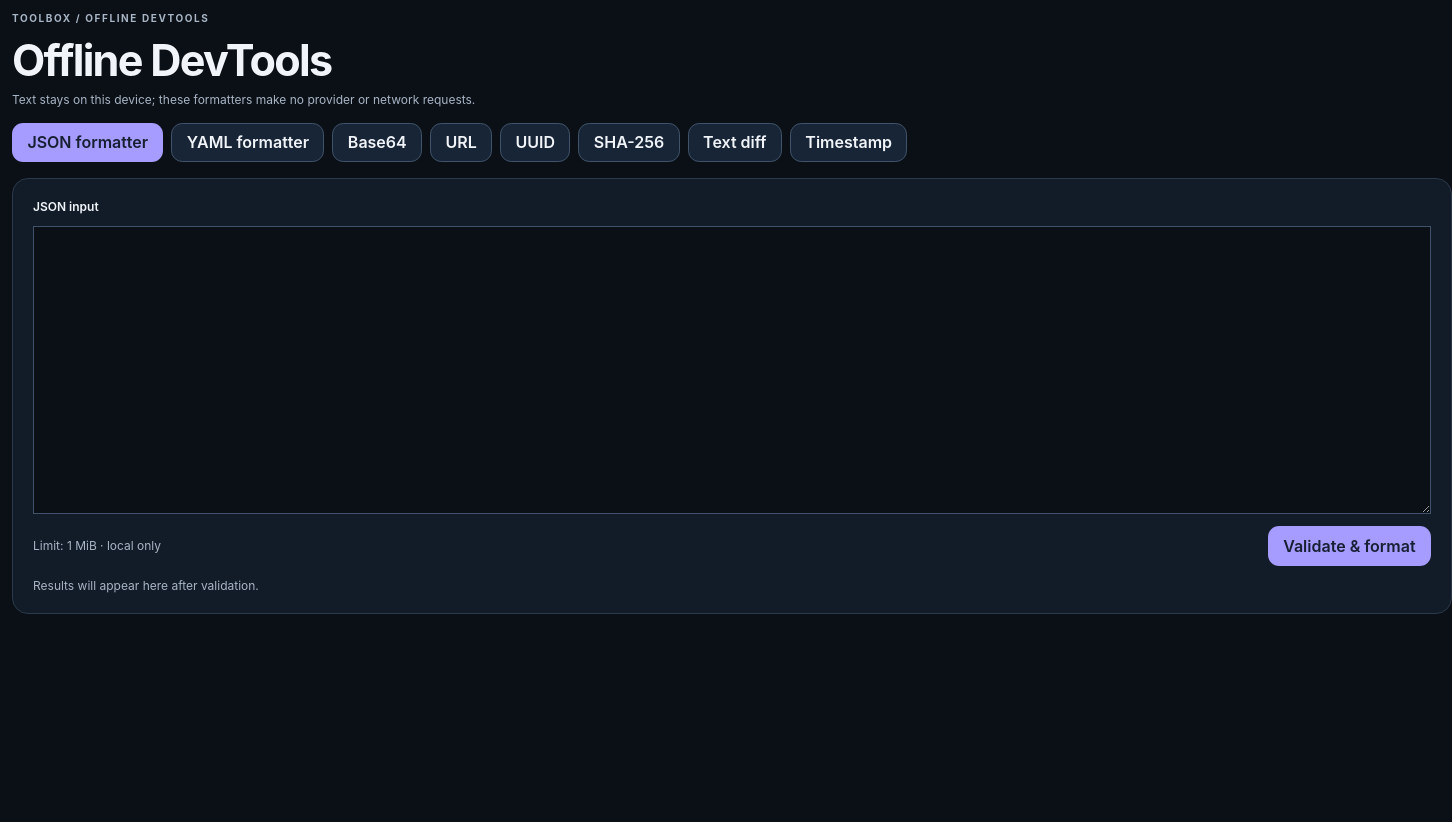
Test: offline DevTools page › generates a local UUID and validates a canonical UUID
Click the button "UUID" at (535, 142), box [500,123,570,162]
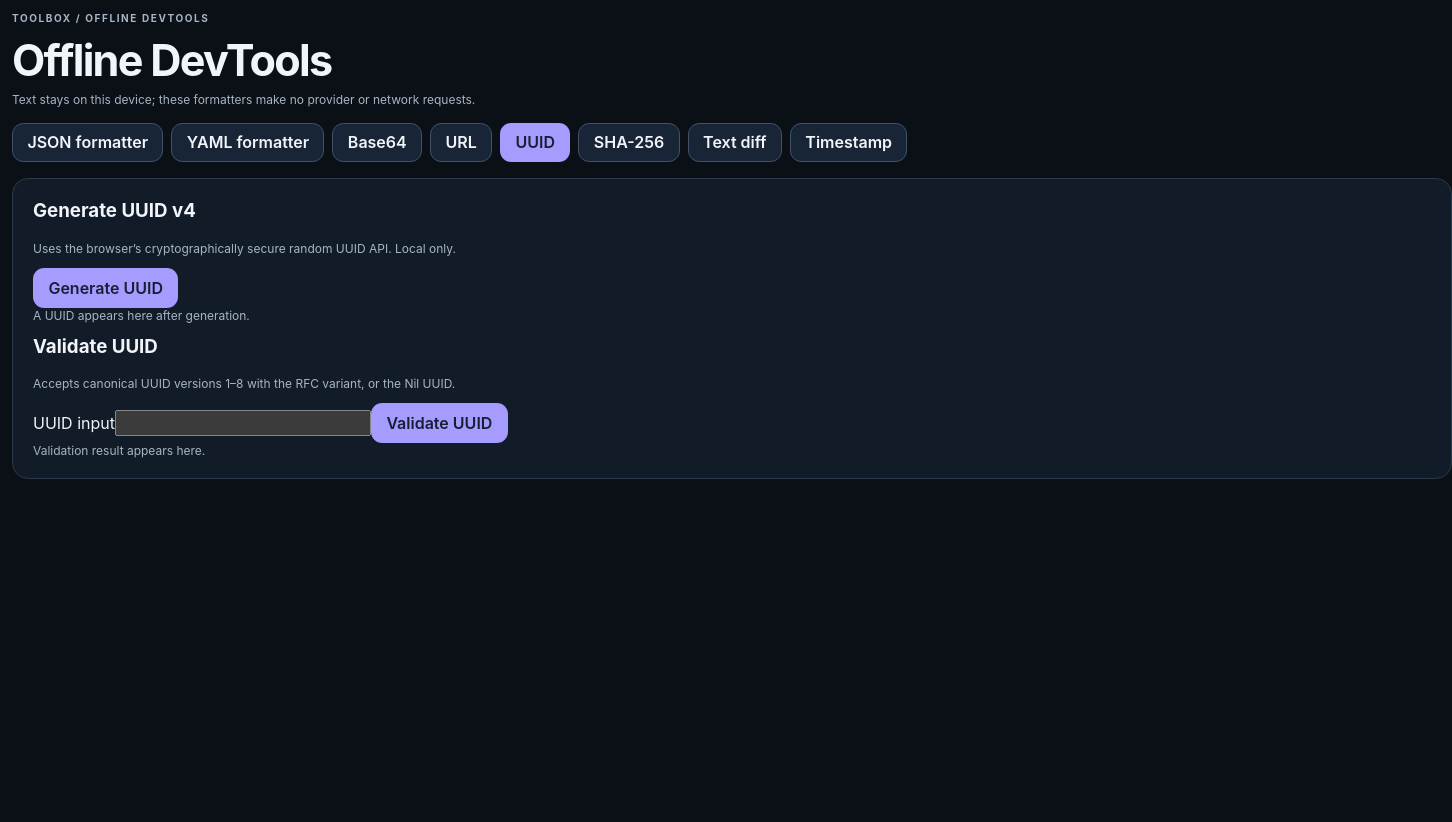
Click the button "Generate UUID" at (106, 288), box [33,268,178,308]
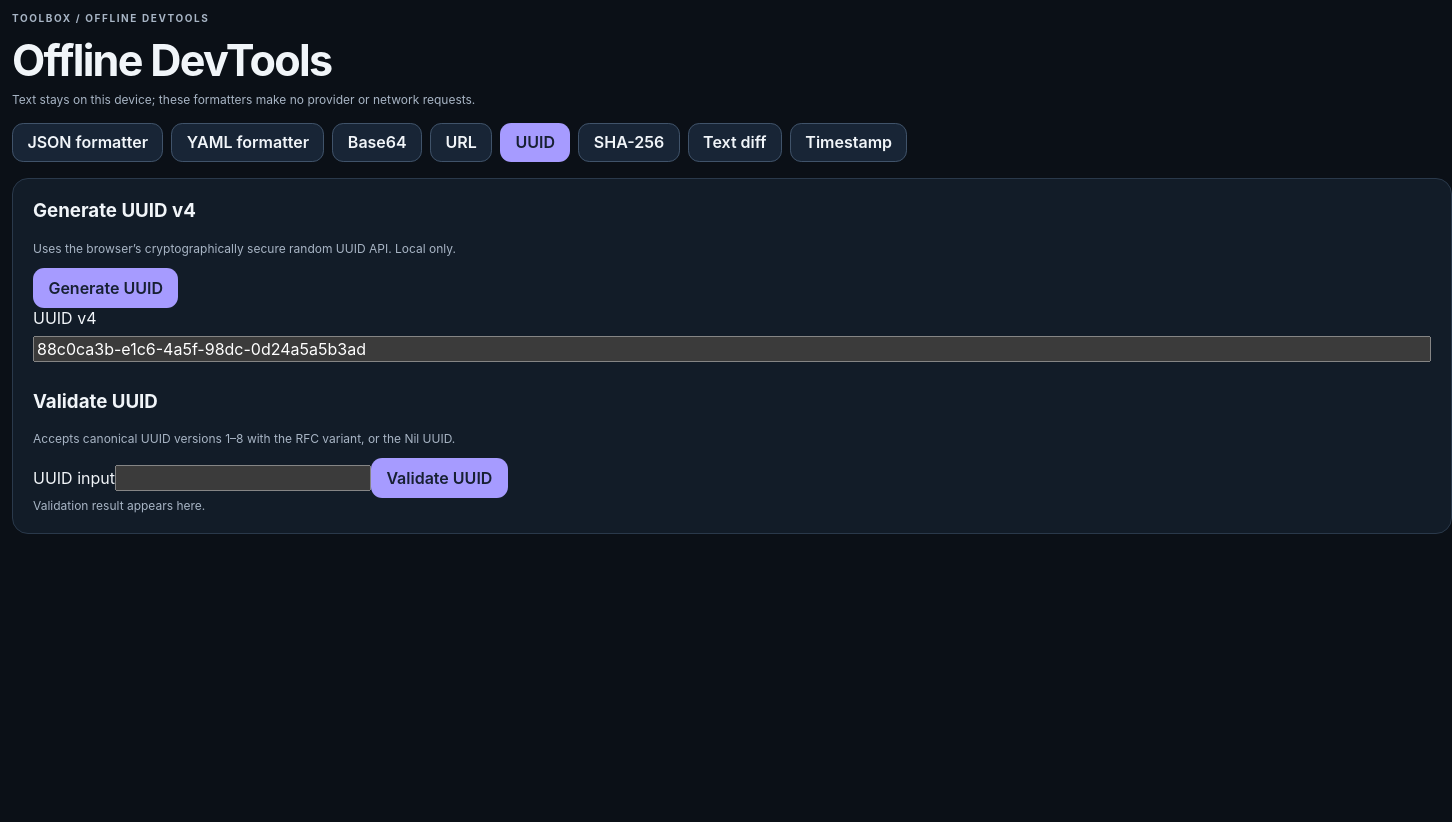
Type "36b8f84d-df4e-4d49-b662-bcde71a8764f" into the field labelled "UUID input" at (243, 478), box [115,465,371,491]
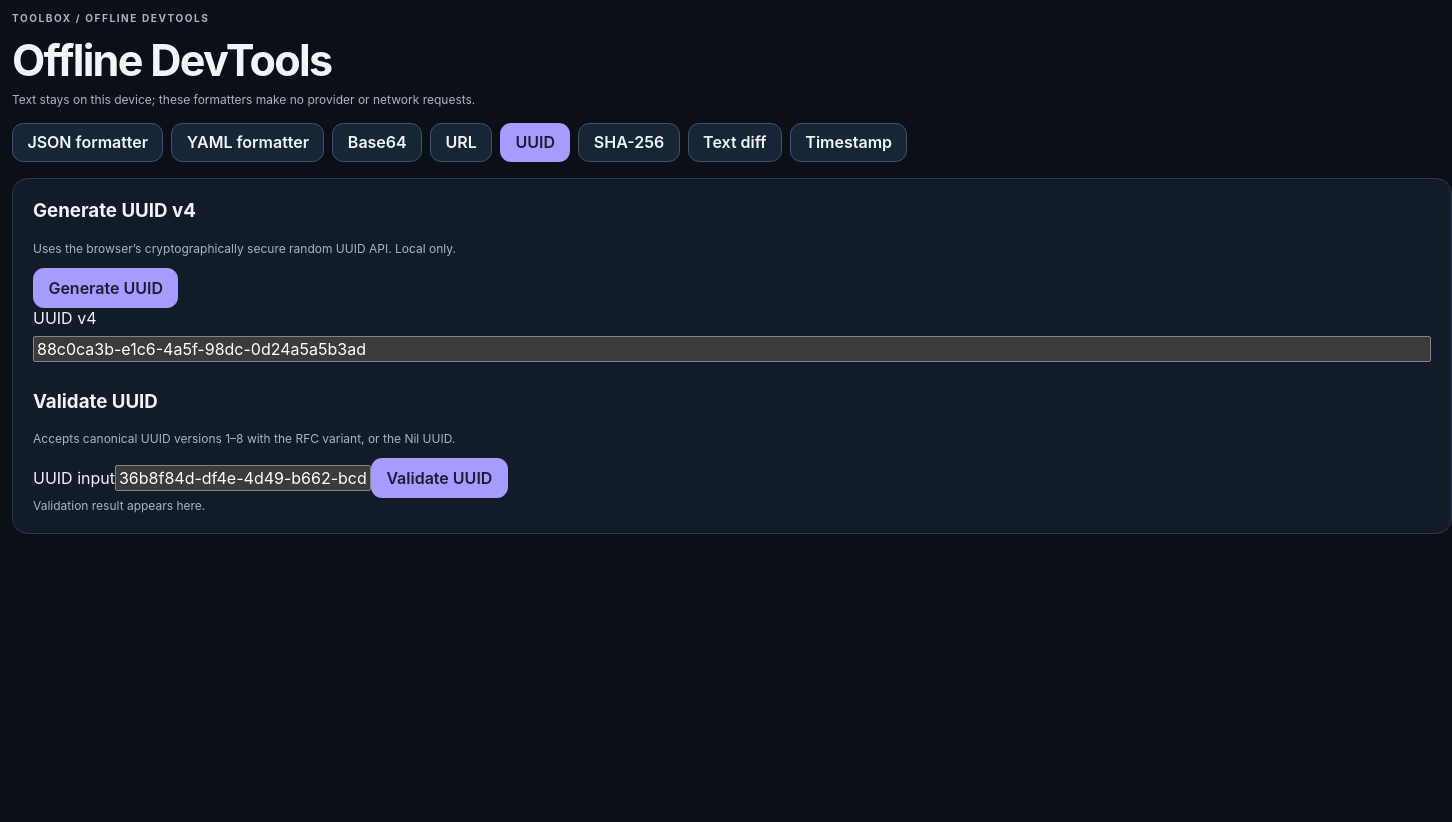
Click the button "Validate UUID" at (439, 478), box [371,458,508,498]
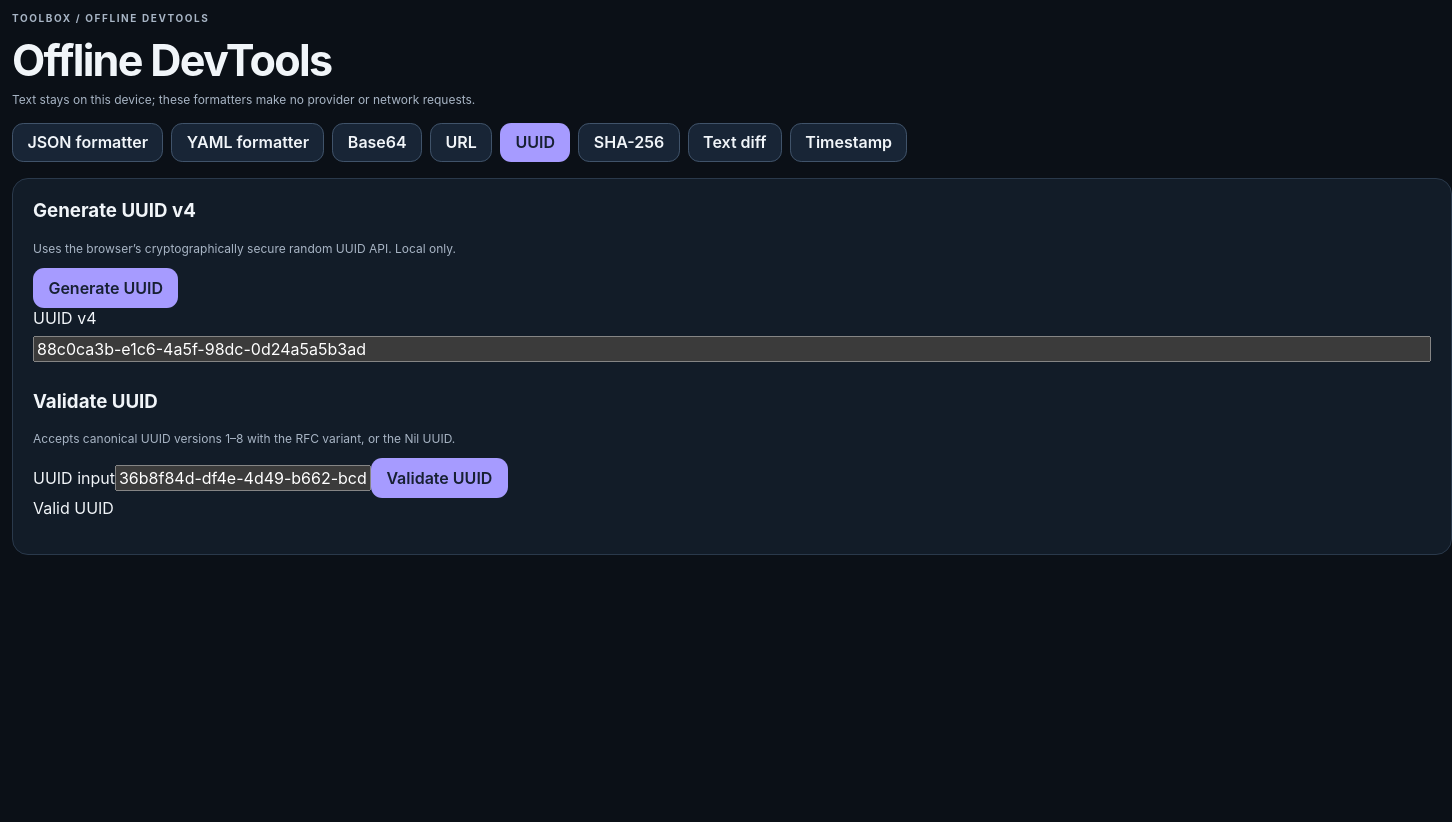
Expected: the text "Valid UUID" is shown, [33,498,114,518]
